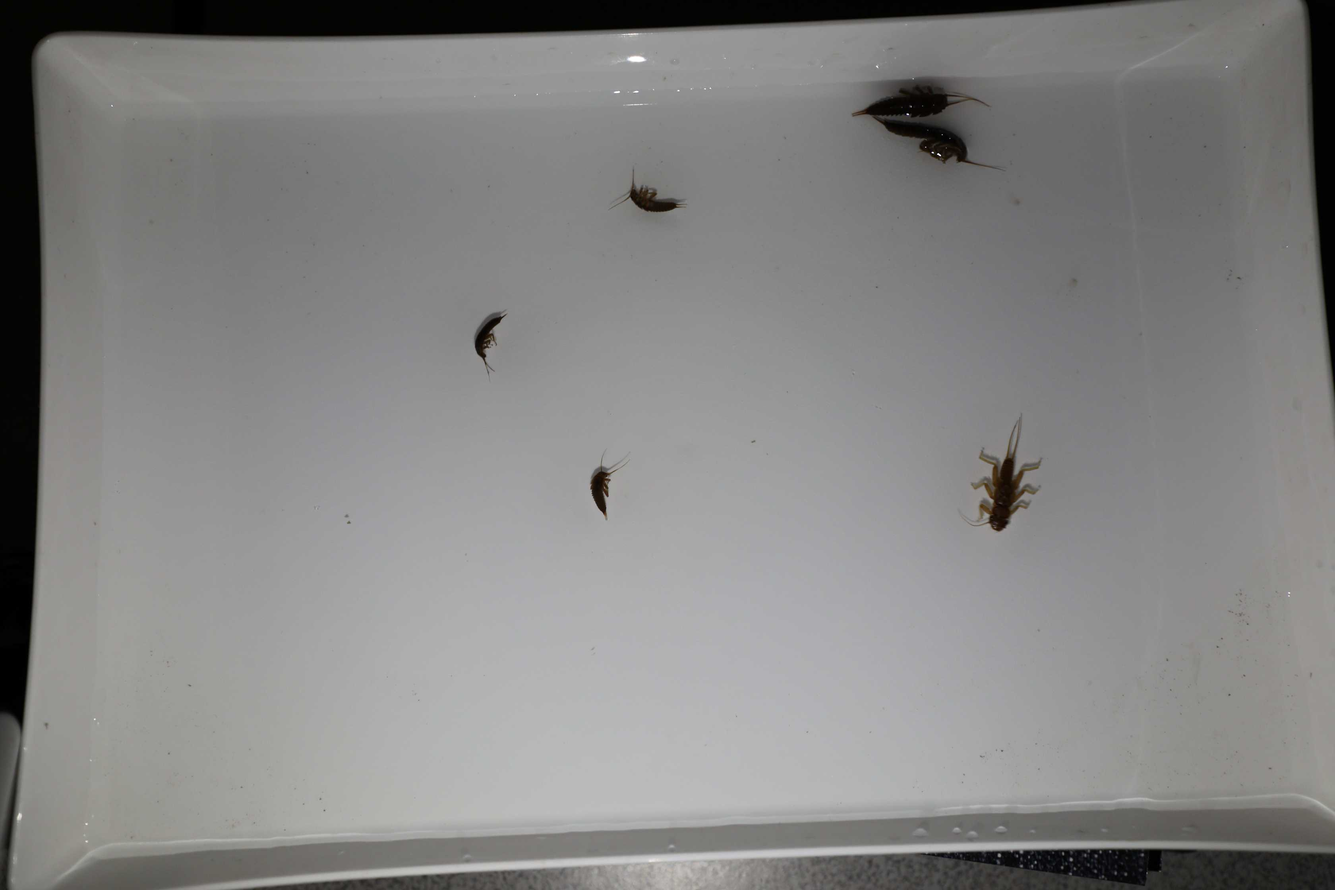Stonefly: (961, 416, 1040, 540), (882, 122, 1009, 173), (847, 79, 986, 122), (604, 165, 684, 215), (583, 451, 626, 522), (471, 309, 509, 375)
